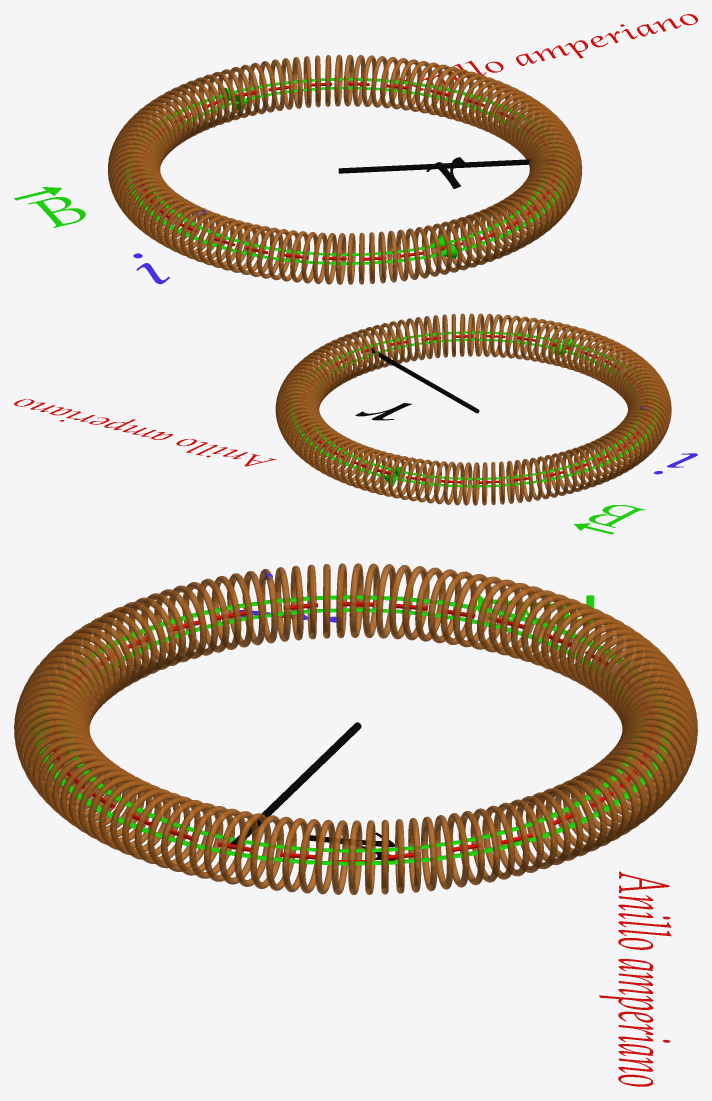
The model's file is Toroide.dae.
3 renders of one model, top to bottom at view 1: azimuth 30°, elevation 25°; view 2: azimuth 150°, elevation 25°; view 3: azimuth 270°, elevation 25°, orthographic. The views are drawn at different scales.
Parts seen in each view (by area): view 1: NurbsPath; view 2: NurbsPath; view 3: NurbsPath.
Part boxes in pixels (left/top/right/bottom): NurbsPath: left=14, top=14, right=697, bottom=284; NurbsPath: left=14, top=313, right=697, bottom=534; NurbsPath: left=14, top=563, right=697, bottom=1086.
Bounding box in the file's own units: 34.13 × 20.09 × 2.46.
